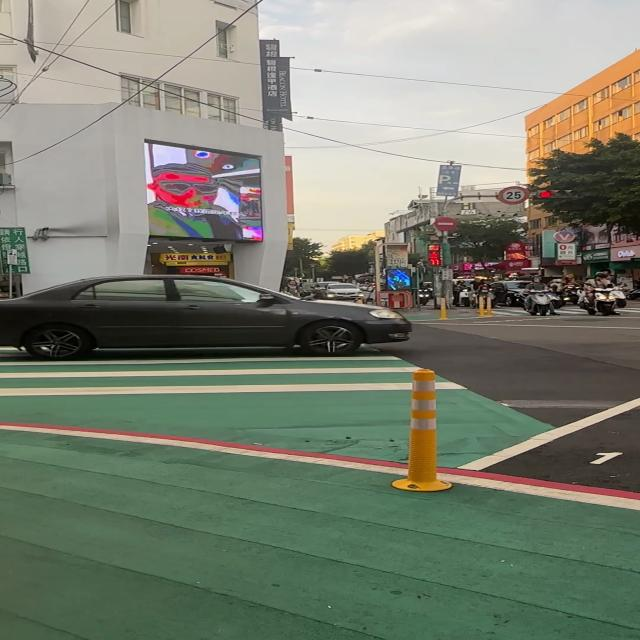Flexible_delineator_post: (0, 275, 410, 360), (393, 369, 452, 491)
crosswalk: (0, 356, 419, 397)
motocycle: (587, 288, 618, 316), (523, 290, 554, 316)
